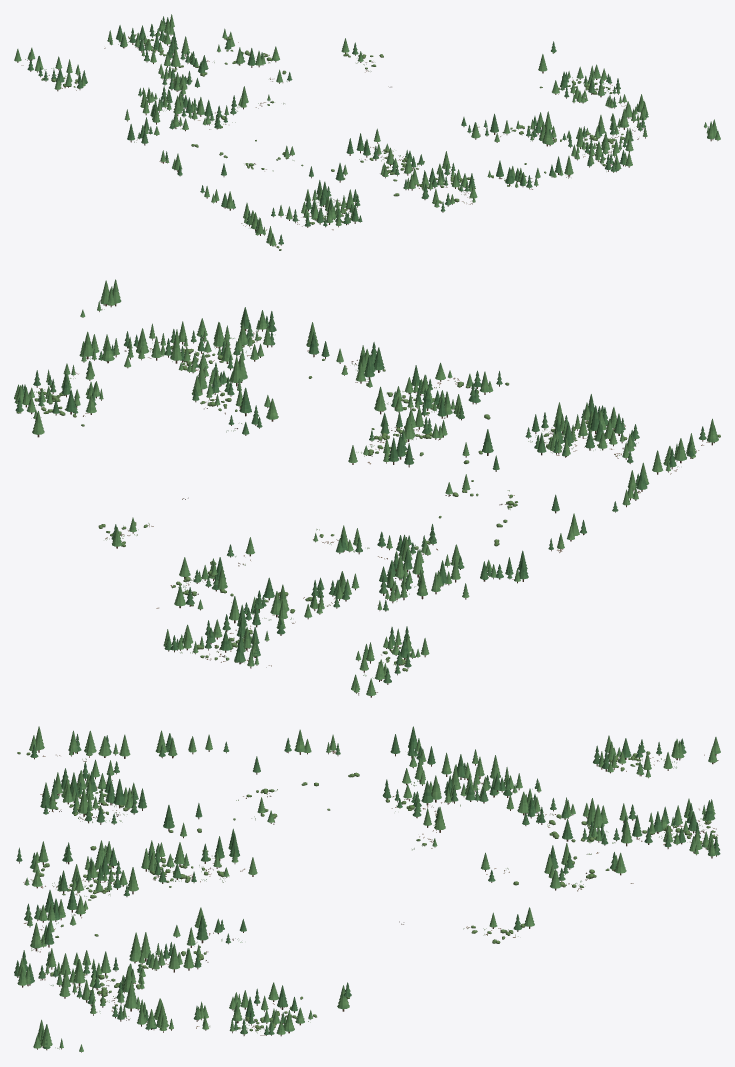
Rendered from Foliage_P3.fbx.
3 renders of one model, top to bottom at view 1: azimuth 30°, elevation 25°; view 2: azimuth 150°, elevation 25°; view 3: azimuth 270°, elevation 25°, orthographic. The views are drawn at different scales.
Bounding box in the file's own units: 61259 × 5236 × 61381.
